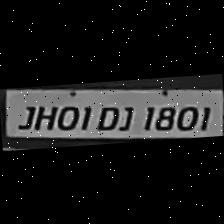0: (52, 102, 80, 131), (174, 102, 200, 132)
1: (134, 102, 154, 132), (195, 102, 212, 131), (77, 102, 93, 131)
8: (152, 103, 174, 132)
D: (90, 102, 122, 132)
H: (34, 100, 58, 130)
J: (13, 102, 34, 130), (116, 102, 135, 131)
